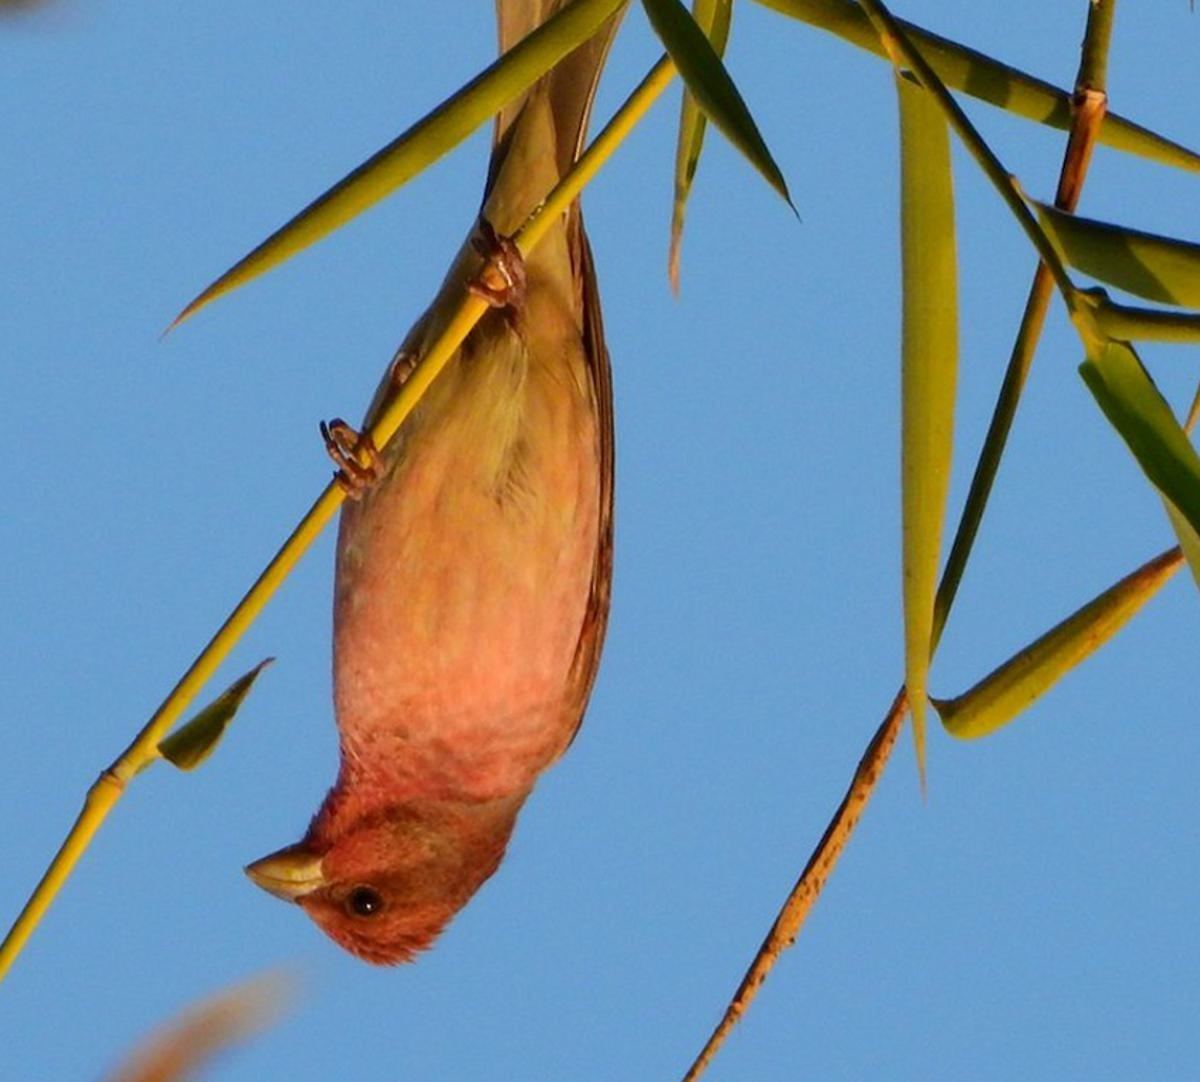rosefinch: (231, 47, 664, 990)
